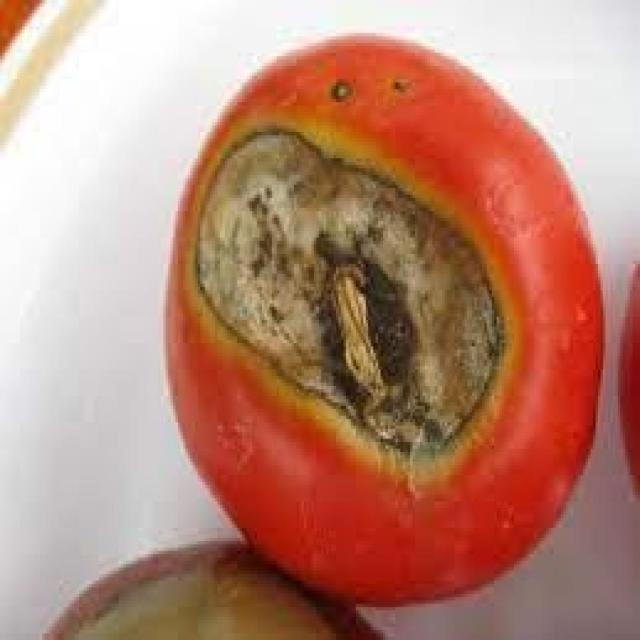Blossom End Rot Fruit: (21, 15, 263, 233)
